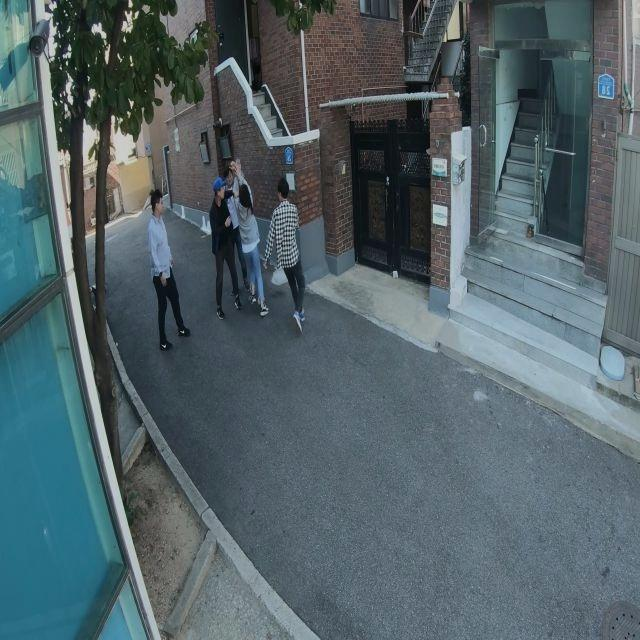fight: (206, 162, 266, 318)
non-fight: (145, 192, 187, 350), (269, 178, 306, 331)
